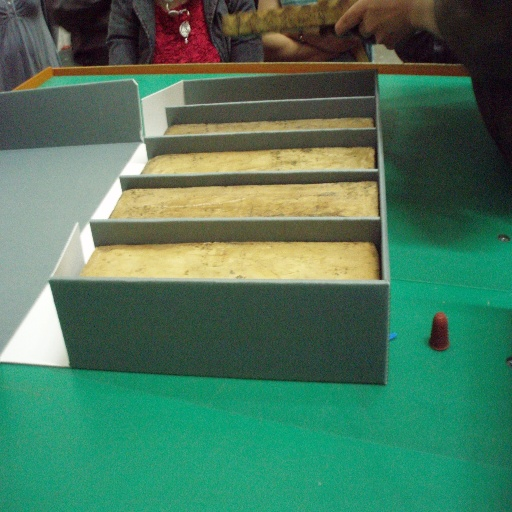hand: (331, 0, 411, 54)
